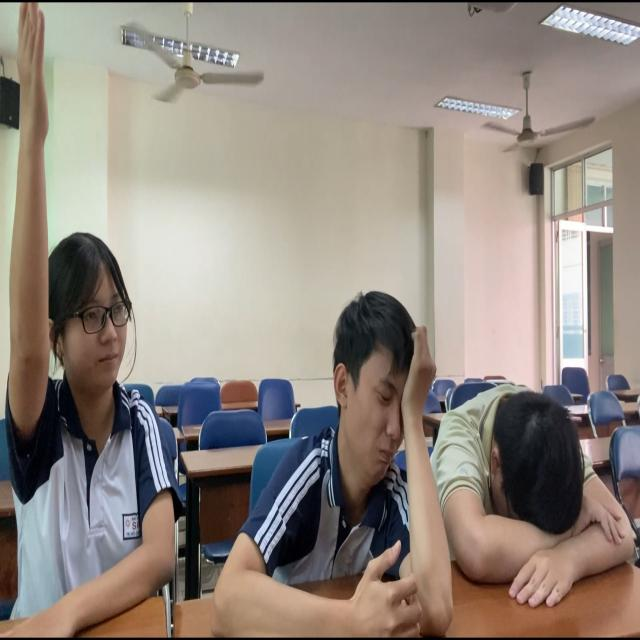raise_hand: (1, 1, 163, 640)
sleep: (436, 361, 640, 592)
